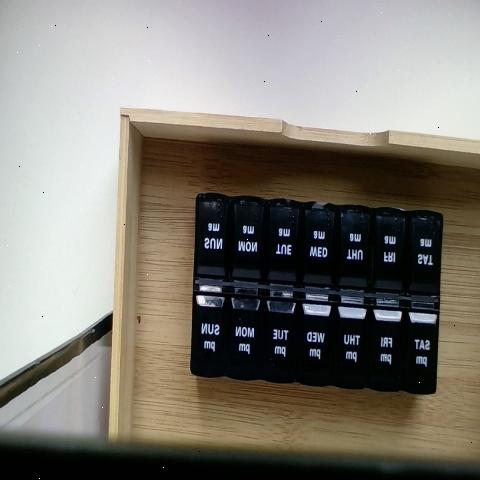FRI-am: (373, 211, 407, 298)
FRI-pm: (368, 310, 403, 394)
MON-am: (230, 197, 267, 280)
MON-pm: (224, 290, 262, 375)
SAT-am: (405, 216, 441, 306)
SAT-pm: (404, 317, 437, 400)
SUN-am: (196, 191, 229, 277)
SUN-pm: (191, 284, 224, 371)
THU-am: (337, 206, 373, 294)
THU-pm: (333, 306, 366, 390)
TUE-am: (266, 202, 299, 281)
TUE-pm: (260, 293, 298, 377)
WED-am: (300, 203, 335, 289)
WED-pm: (297, 303, 332, 387)
